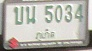txt20: (25, 5, 37, 26)
txt21: (13, 5, 24, 26)
